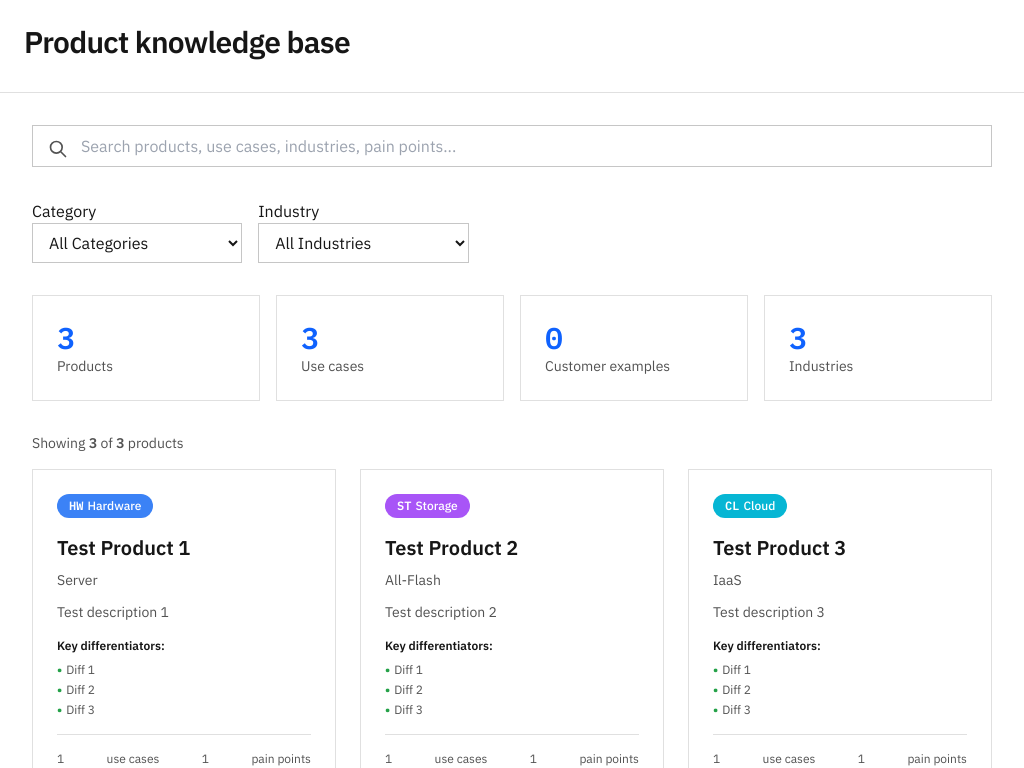
ProductLibraryPage › Search Functionality › should filter products by search query
Step 1. Type "Product 1" into the field with placeholder "Search products, use cases, industries, pain points..." → (512, 146), box x1=32 y1=125 x2=992 y2=167
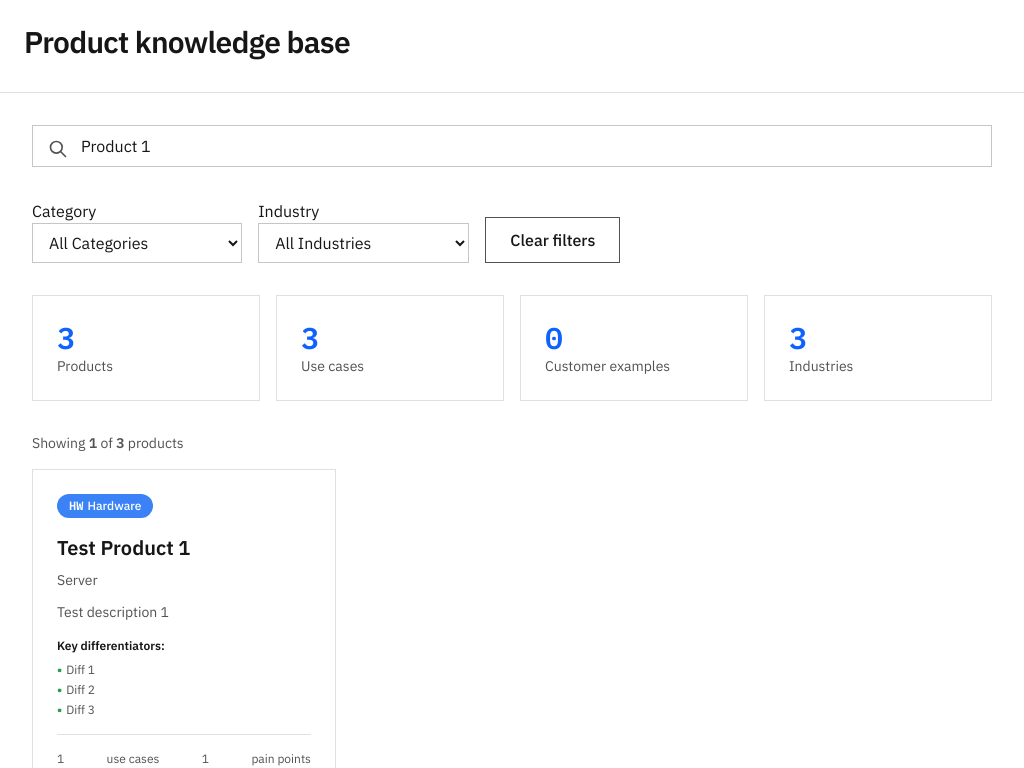
Expected: the heading "Test Product 1" is shown, x1=57 y1=534 x2=190 y2=561
Now the link "Test Product 2" is gone
Now the link "Test Product 3" is gone
